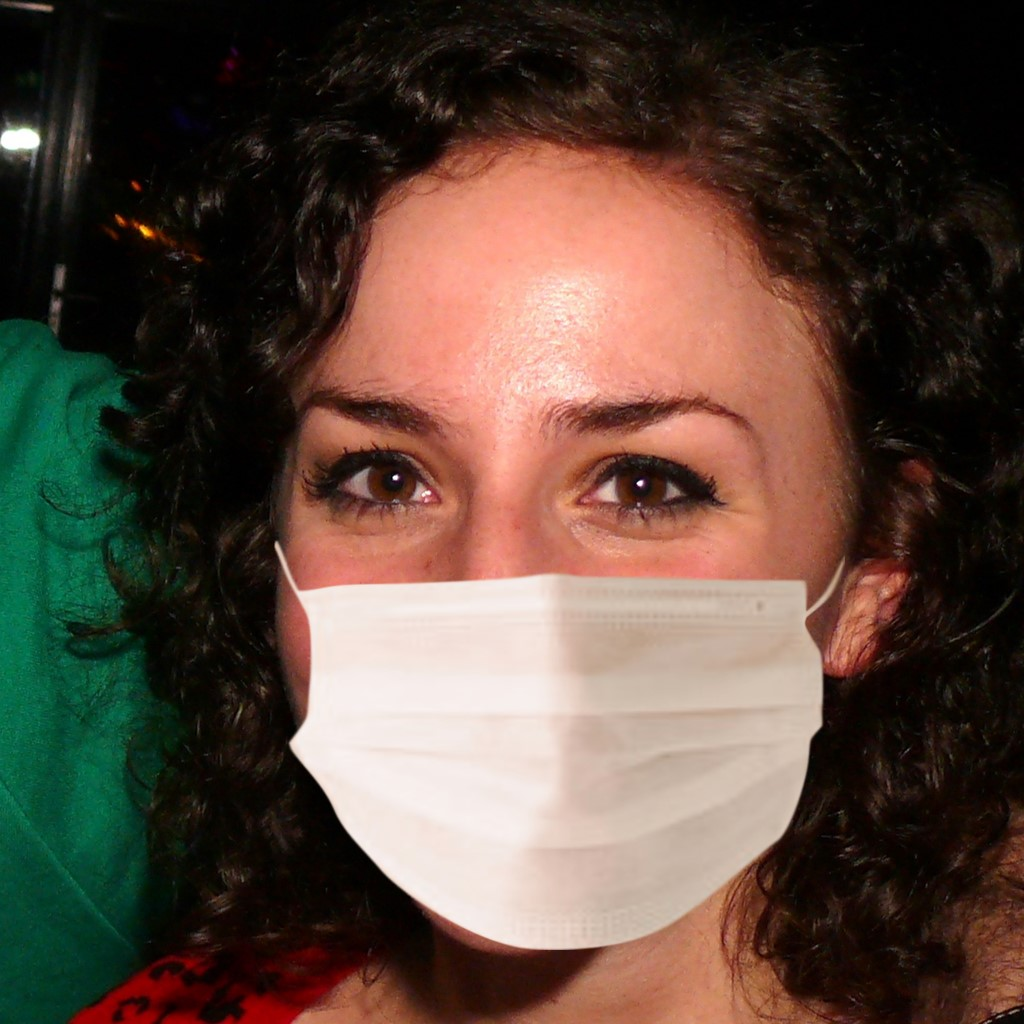con_mascara: (233, 210, 869, 934)
